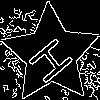H: (26, 29, 83, 87)
